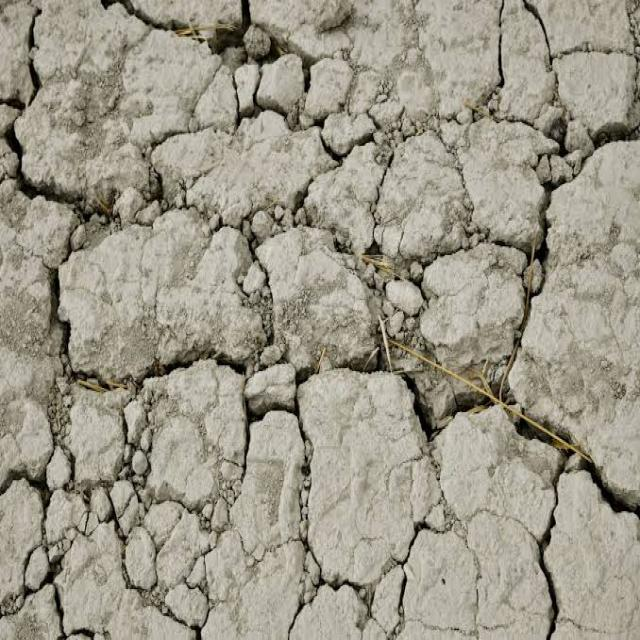suelo_seco: (204, 187, 311, 504)
